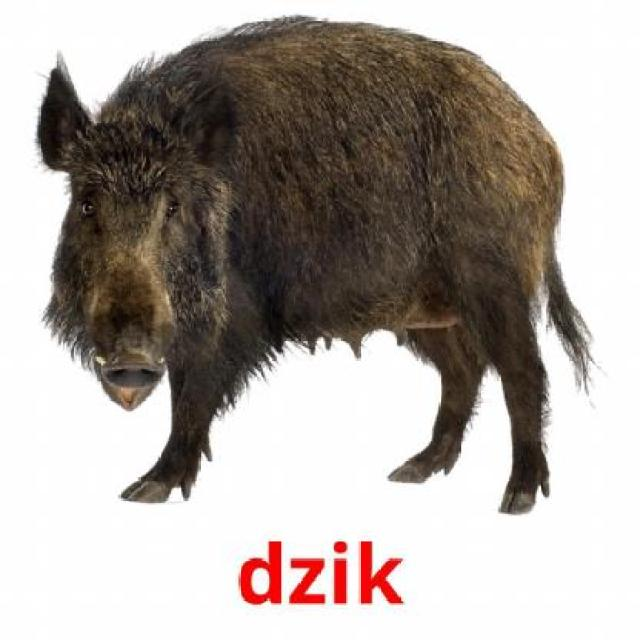wildboar: (34, 16, 594, 522)
